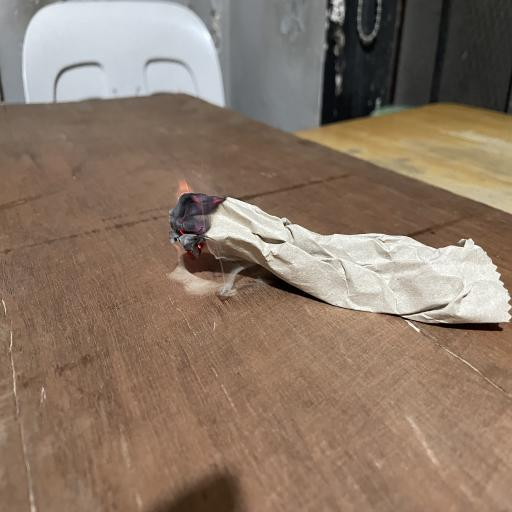fire: (126, 131, 268, 291)
